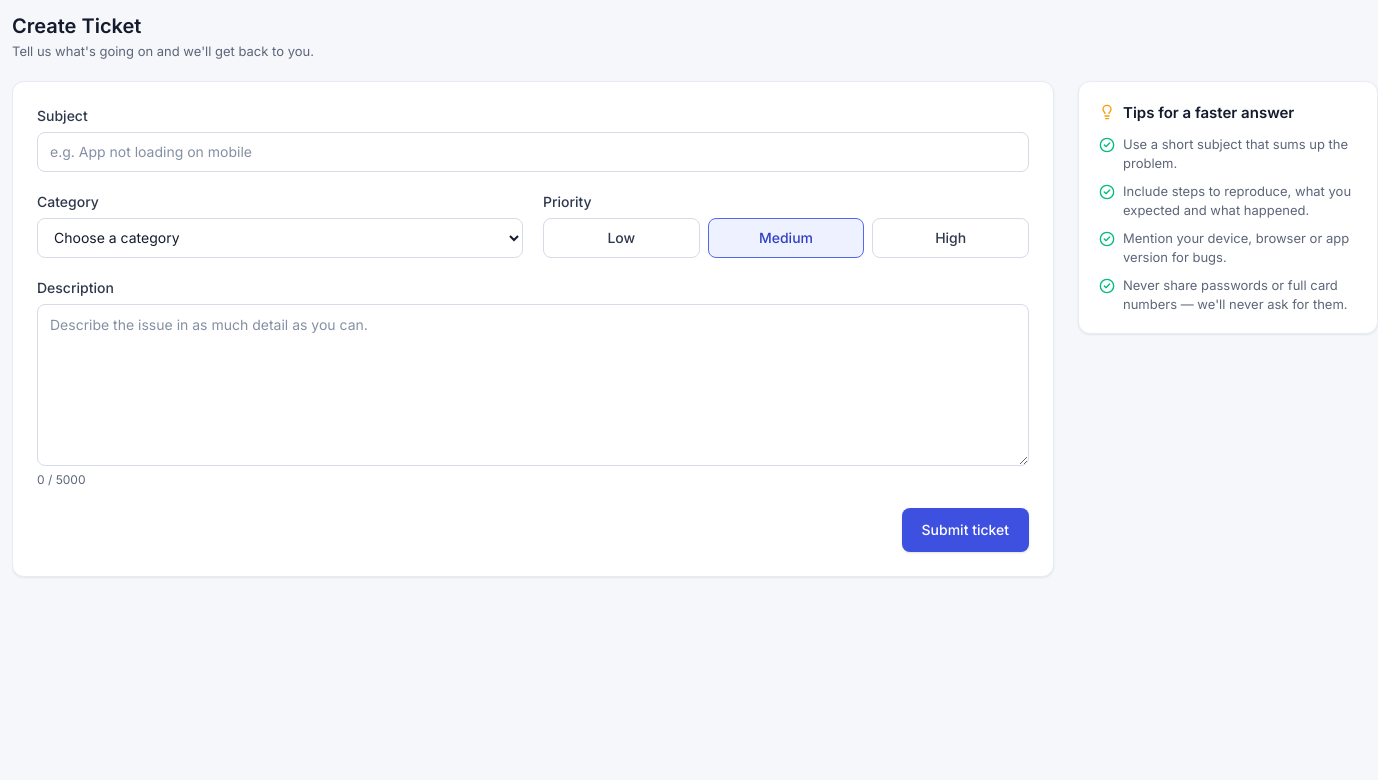
Test case: CreateTicketPage › shows field errors from the shared schema and links them to the inputs
Type "Hi" into the field labelled "Subject" at (533, 152), box x1=37 y1=132 x2=1029 y2=172
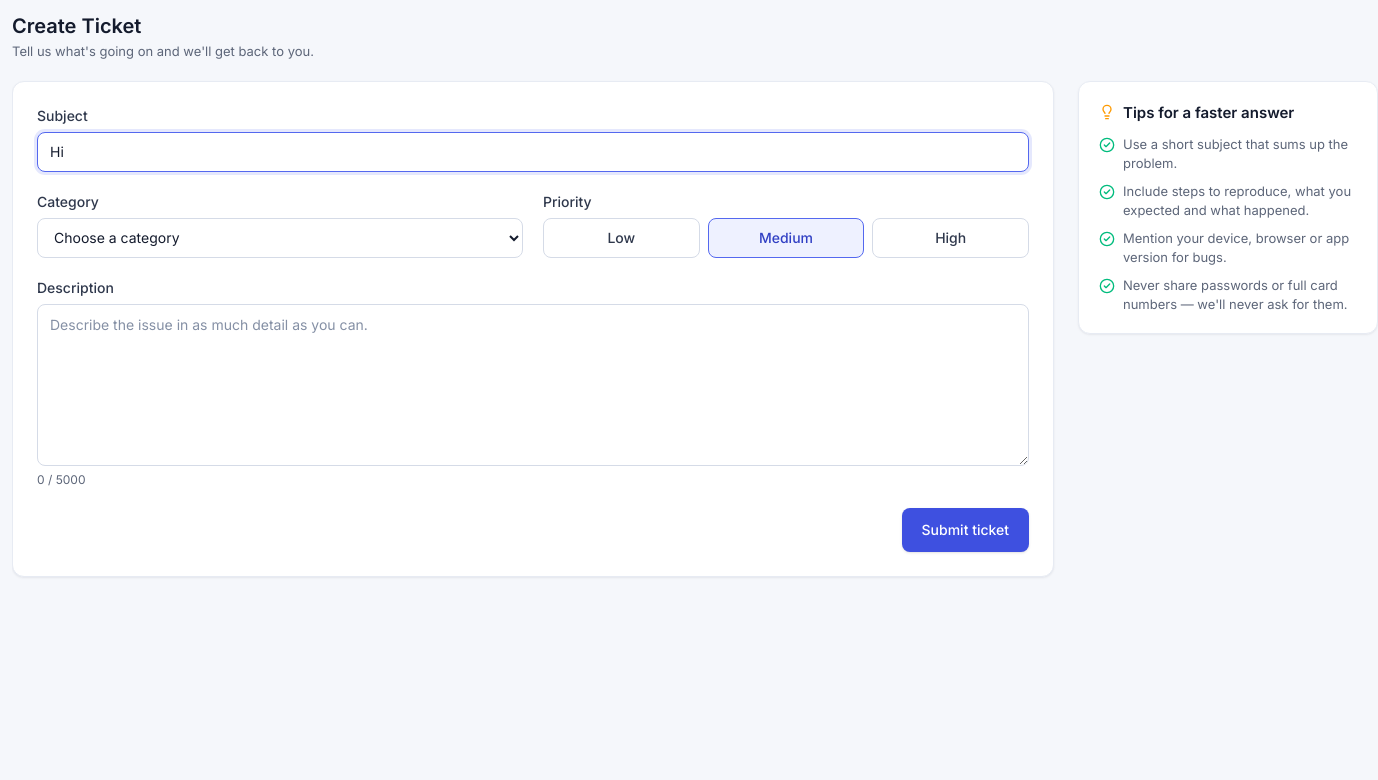
Click the button "Submit ticket" at (965, 530), box x1=902 y1=508 x2=1029 y2=552
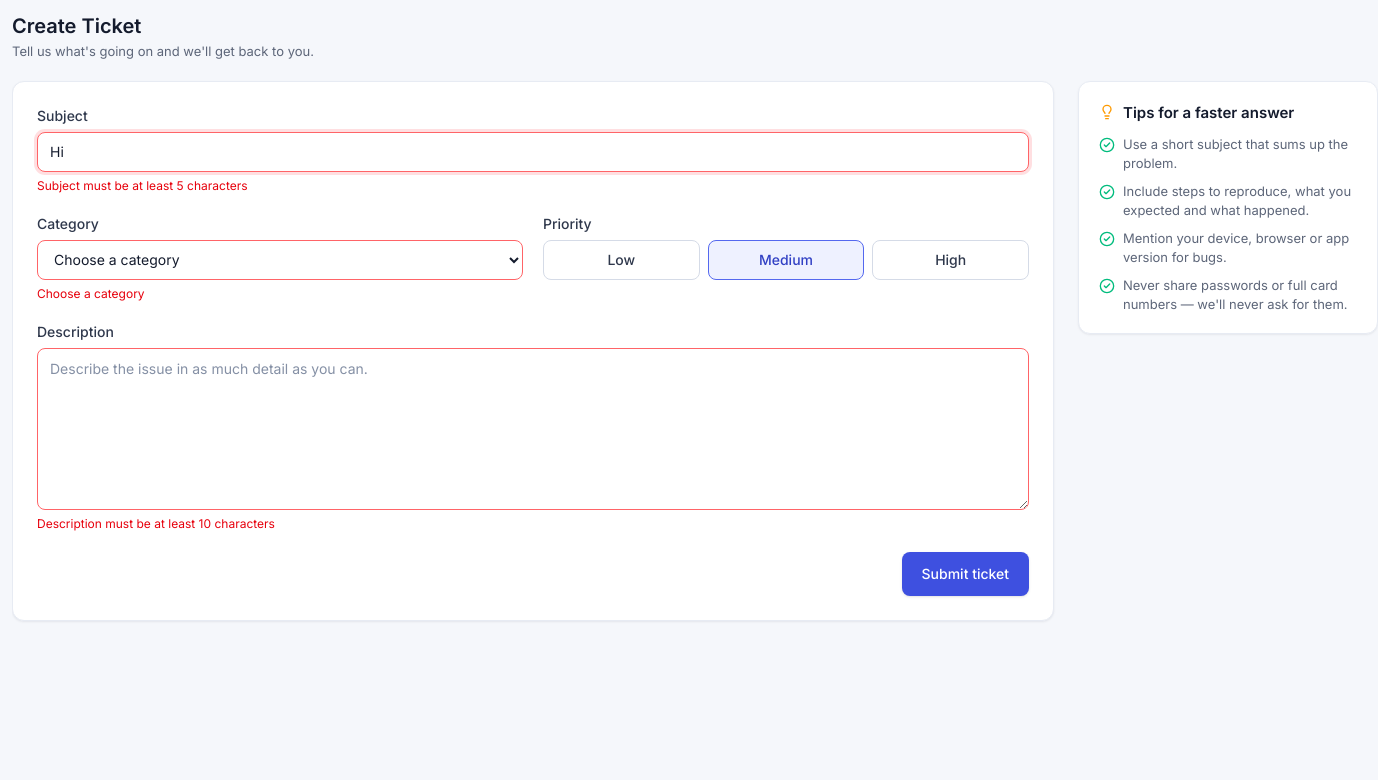
Expected: the text "Subject must be at least 5 characters" is shown, x1=37 y1=178 x2=248 y2=193
